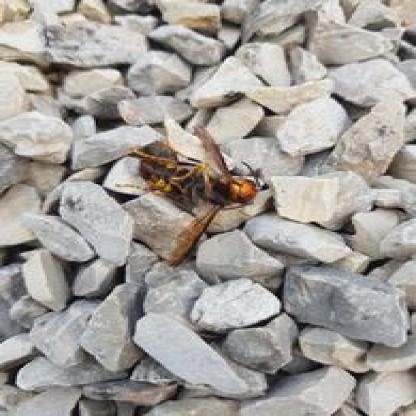Asian Hornet: (109, 123, 275, 271)
